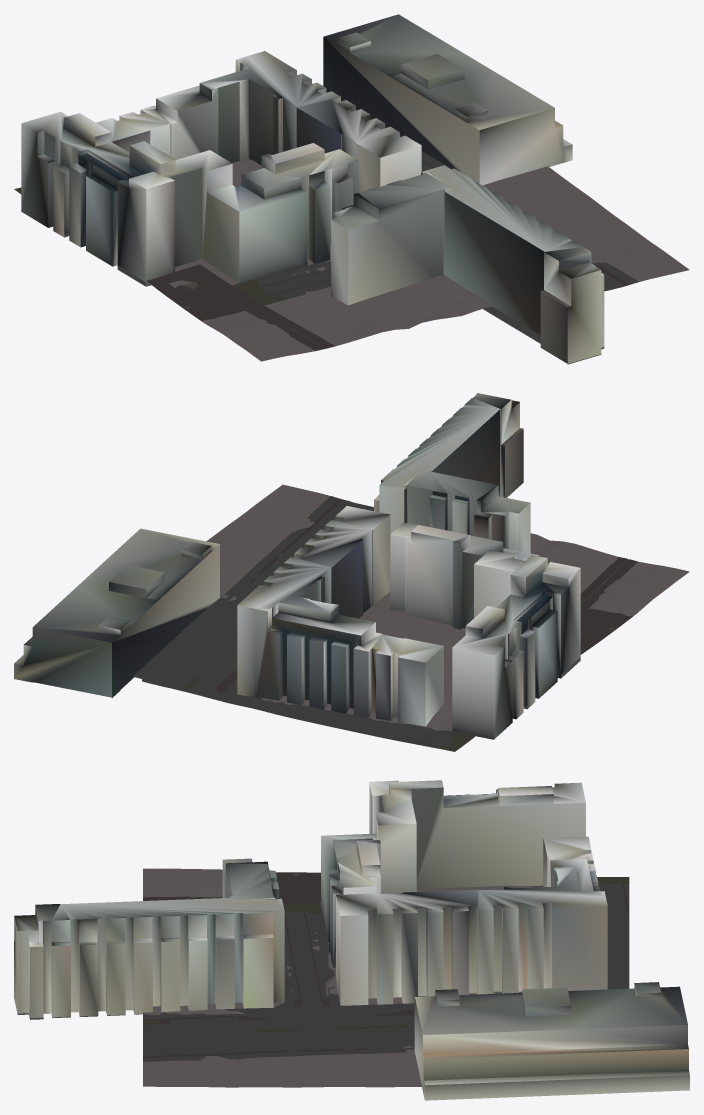
The picture shows the model from 3 angles, top to bottom: view 1: azimuth 30°, elevation 25°; view 2: azimuth 150°, elevation 25°; view 3: azimuth 270°, elevation 25°; orthographic projection. The views are drawn at different scales.
Visible parts, largest first — view 1: c_m14_p09; view 2: c_m14_p09; view 3: c_m14_p09.
Boxes of the visible parts, bbox=[...] form: c_m14_p09: bbox=[14, 14, 689, 364]; c_m14_p09: bbox=[14, 393, 689, 751]; c_m14_p09: bbox=[14, 780, 689, 1100].
Bounding box in the file's own units: 141 × 33.14 × 178.
